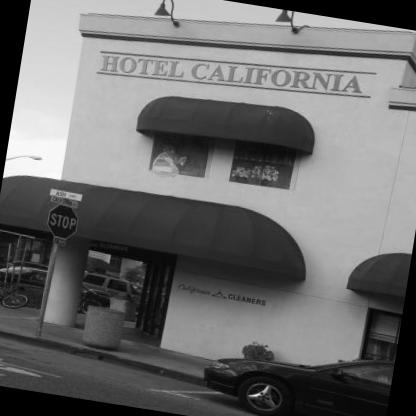car: (193, 323, 397, 416)
